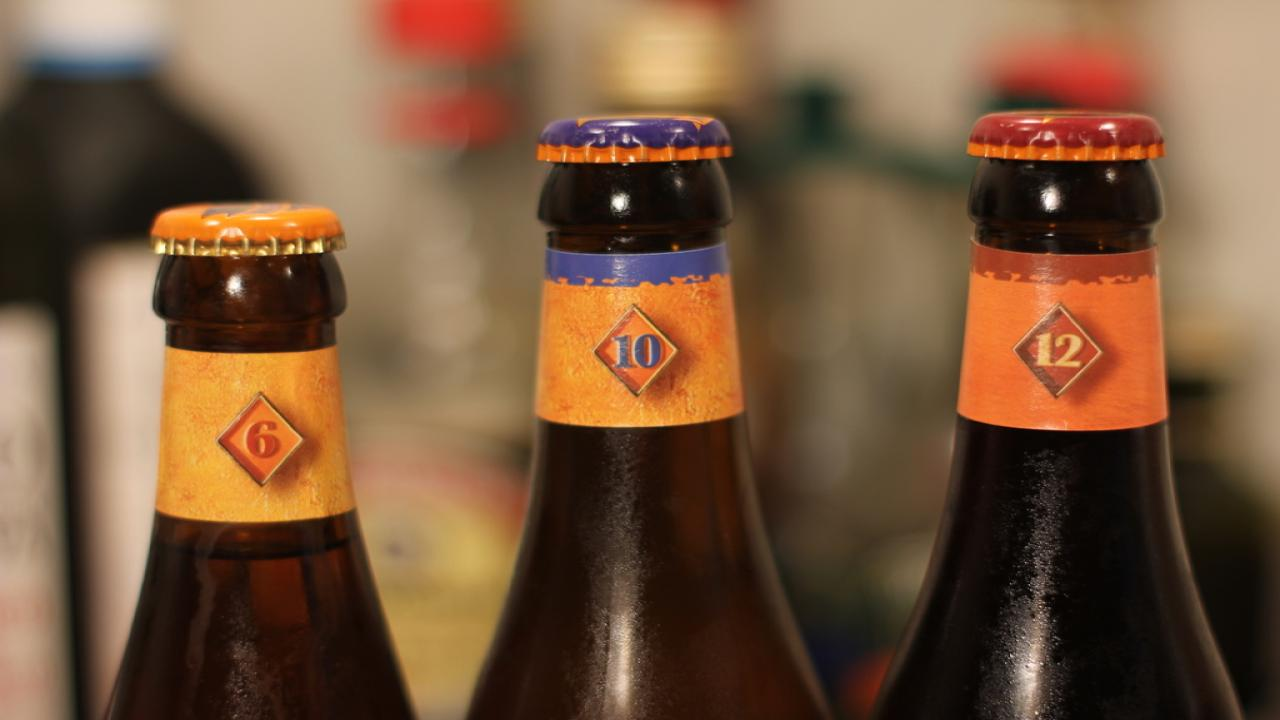bottle_cap: (146, 202, 349, 262), (968, 111, 1168, 163), (536, 113, 736, 162)
